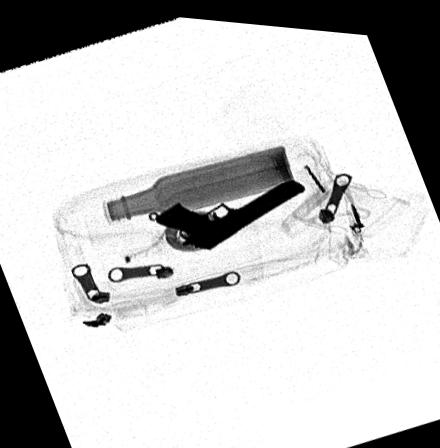Gun: (150, 173, 304, 247)
